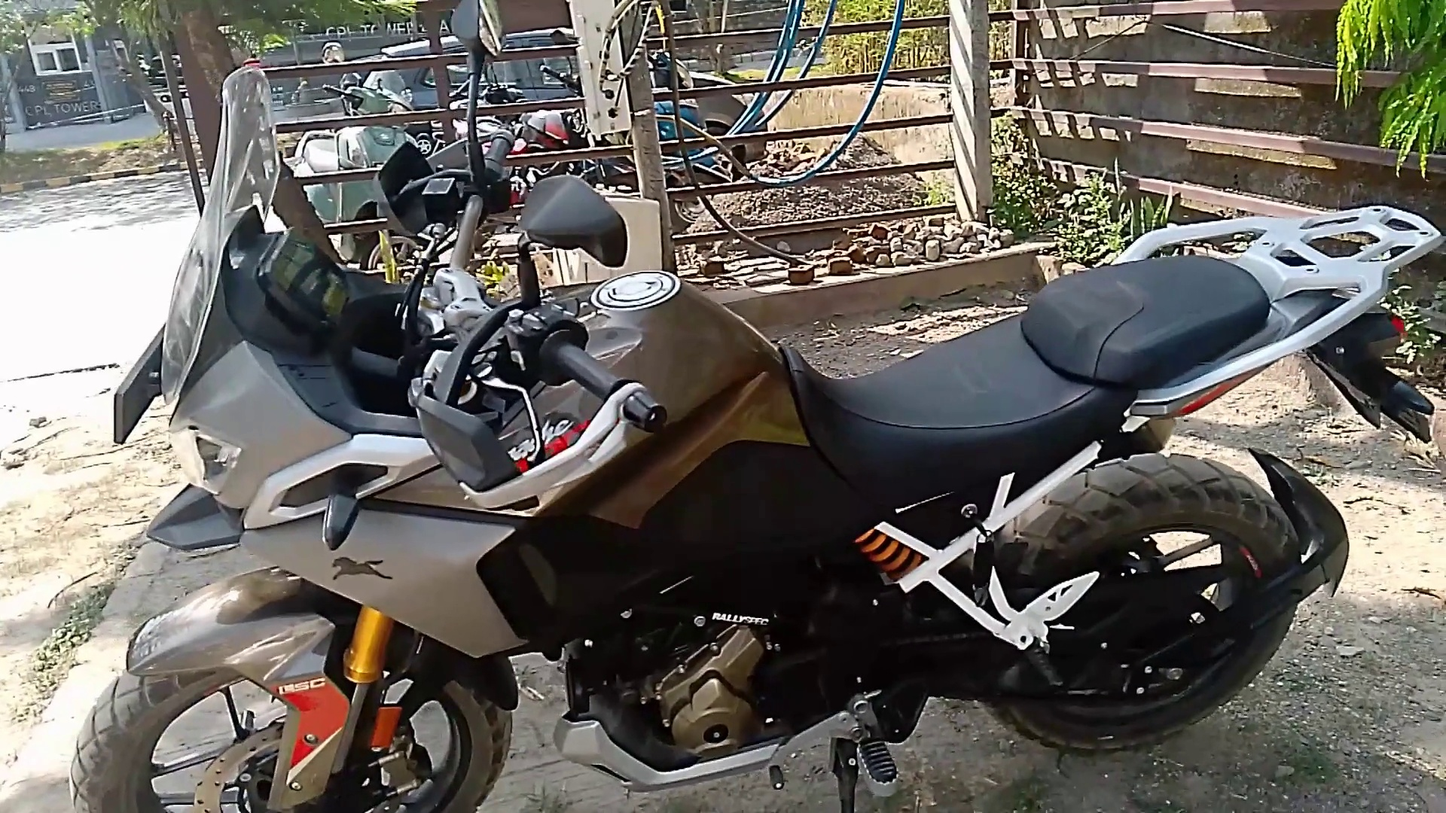engine: (618, 578, 802, 783)
